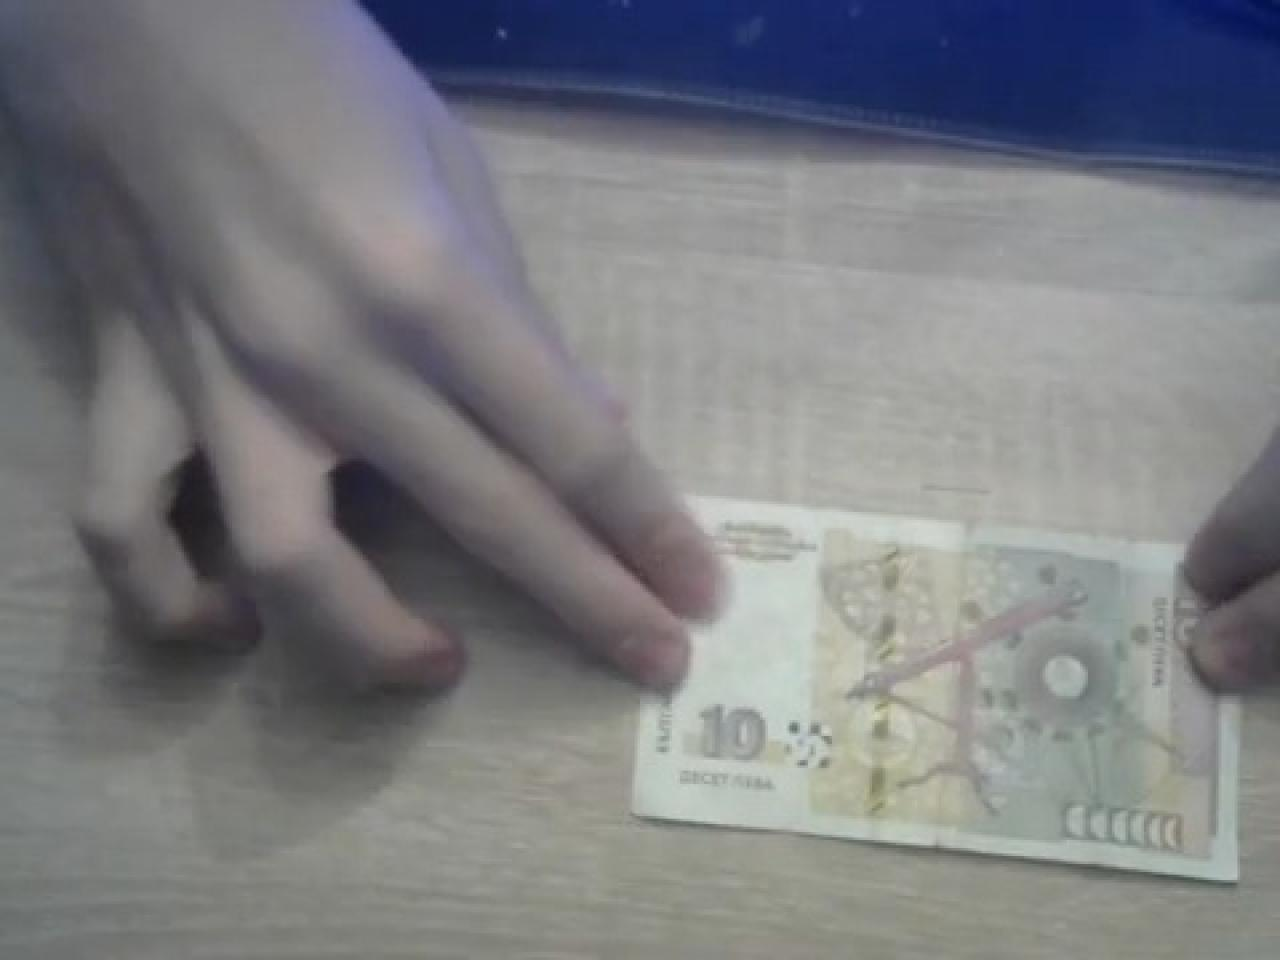10leva: (632, 496, 1240, 888)
